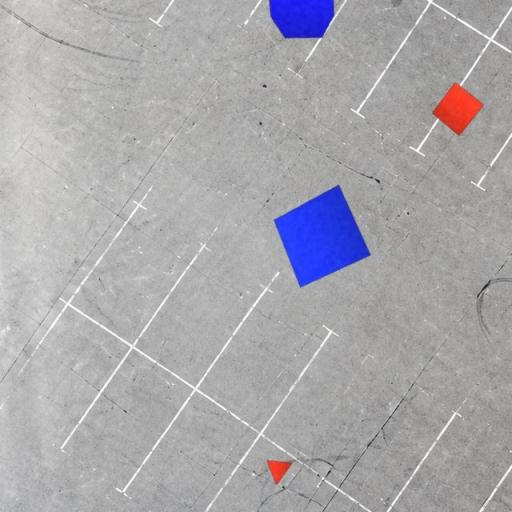BLUE_SQUARE: (273, 184, 371, 288)
RED_SQUARE: (431, 82, 485, 136)
